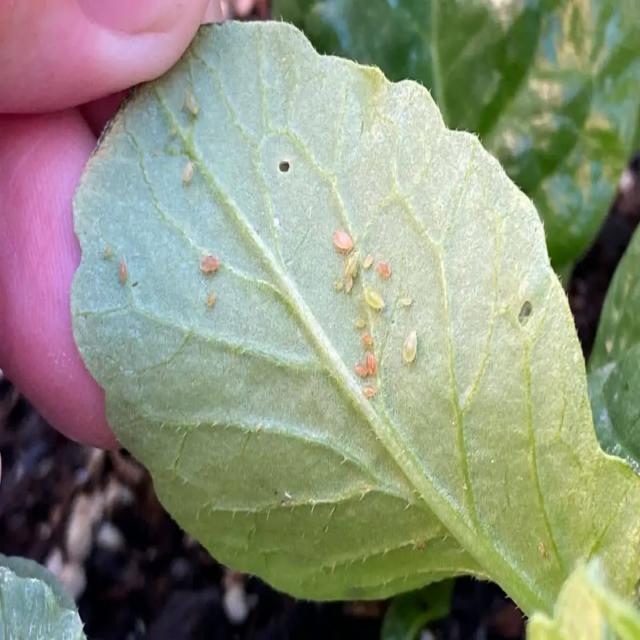Aphid-Grown-: (323, 221, 361, 256), (396, 325, 426, 368), (194, 246, 228, 279), (362, 282, 389, 314)
